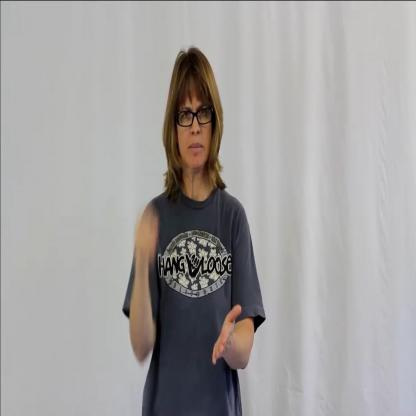Expensive: (125, 42, 262, 416)
